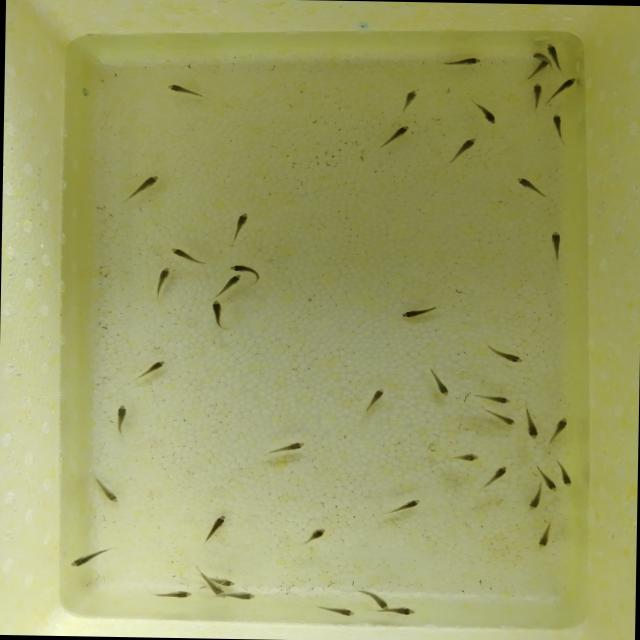fingerling: (130, 352, 173, 386), (120, 172, 164, 204), (66, 544, 117, 569), (478, 342, 530, 366), (89, 471, 122, 508), (372, 124, 414, 152), (463, 100, 502, 128), (164, 80, 212, 102), (445, 136, 480, 166), (437, 55, 491, 74), (544, 228, 574, 262), (397, 301, 442, 323), (201, 512, 228, 548), (515, 174, 548, 202), (263, 436, 309, 456), (206, 298, 232, 332), (386, 494, 421, 519), (546, 74, 578, 101), (227, 208, 254, 240), (425, 366, 453, 396), (150, 265, 174, 299), (168, 244, 205, 266), (556, 459, 580, 492), (480, 462, 510, 488), (395, 86, 421, 116), (479, 409, 519, 428), (112, 401, 132, 437), (358, 587, 389, 610), (522, 408, 544, 440), (360, 387, 386, 413), (548, 414, 572, 442), (311, 602, 357, 616), (299, 524, 327, 546), (536, 518, 554, 551), (472, 392, 514, 406), (443, 448, 479, 464), (391, 604, 426, 620), (218, 274, 245, 294), (548, 112, 567, 140), (150, 588, 193, 600), (525, 486, 543, 514), (538, 466, 557, 492), (206, 573, 240, 587), (530, 81, 544, 113), (228, 262, 262, 274), (546, 41, 562, 66), (228, 589, 258, 600), (209, 588, 226, 602), (532, 62, 546, 78), (529, 53, 546, 61)
